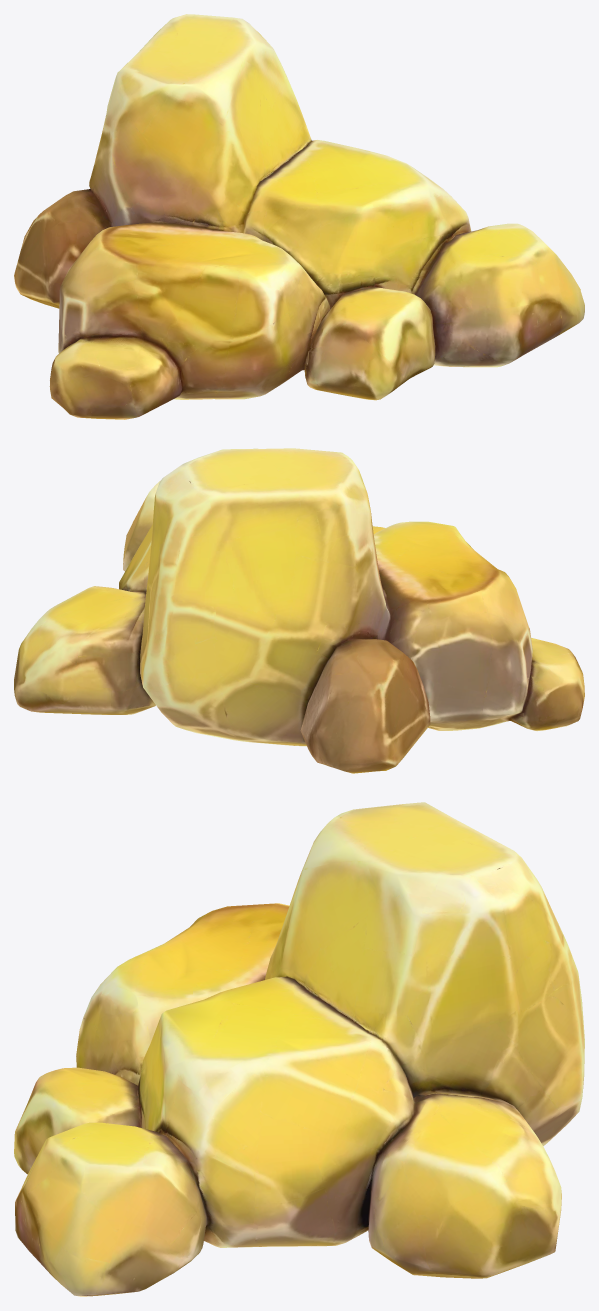
The model's file is gold_pile.glb.
3 views of the same model, one above another, from view 1: azimuth 30°, elevation 25°; view 2: azimuth 150°, elevation 25°; view 3: azimuth 270°, elevation 25° (orthographic). The views are drawn at different scales.
Visible parts, largest first — view 1: Mesh_0; view 2: Mesh_0; view 3: Mesh_0.
Boxes of the visible parts, x1,y1,x2,y2 form: Mesh_0: (14,14,584,419); Mesh_0: (14,448,584,773); Mesh_0: (14,802,584,1296).
Bounding box in the file's own units: 1.9 × 0.9846 × 1.54.
1 material, 1 textured.
